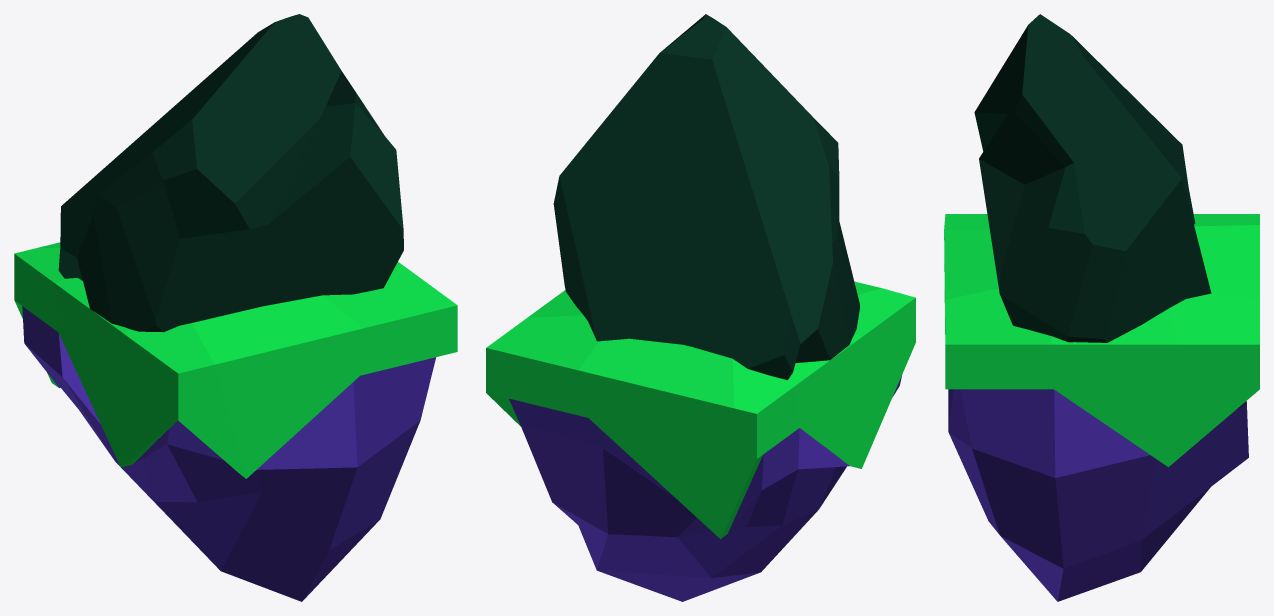
Rendered from obstacle2.fbx.
The picture shows the model from 3 angles, left to right: view 1: azimuth 30°, elevation 25°; view 2: azimuth 150°, elevation 25°; view 3: azimuth 270°, elevation 25°; orthographic projection. The views are drawn at different scales.
Parts seen in each view (by area): view 1: Roundcube.002; view 2: Roundcube.002; view 3: Roundcube.002.
Part boxes in pixels (left/top/right/bottom): Roundcube.002: left=14, top=14, right=457, bottom=601; Roundcube.002: left=486, top=14, right=915, bottom=601; Roundcube.002: left=944, top=14, right=1259, bottom=601.
Bounding box in the file's own units: 478 × 974 × 486.
